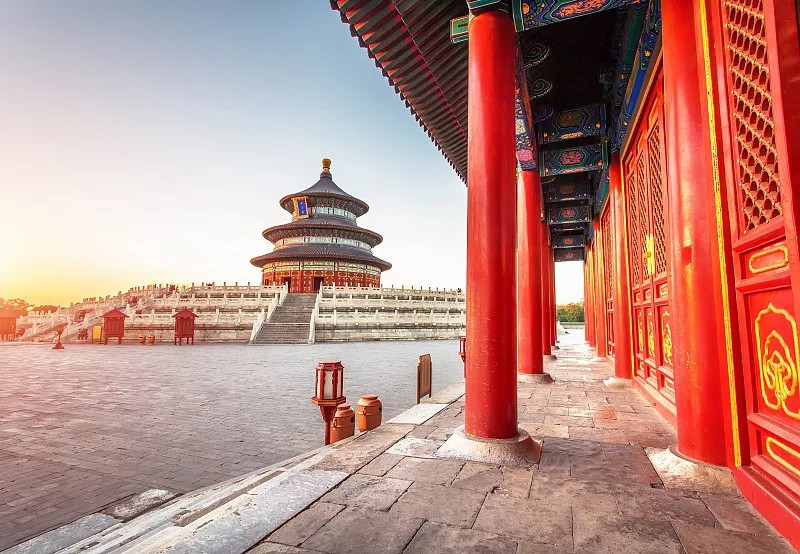Heaven: (250, 158, 391, 292)
